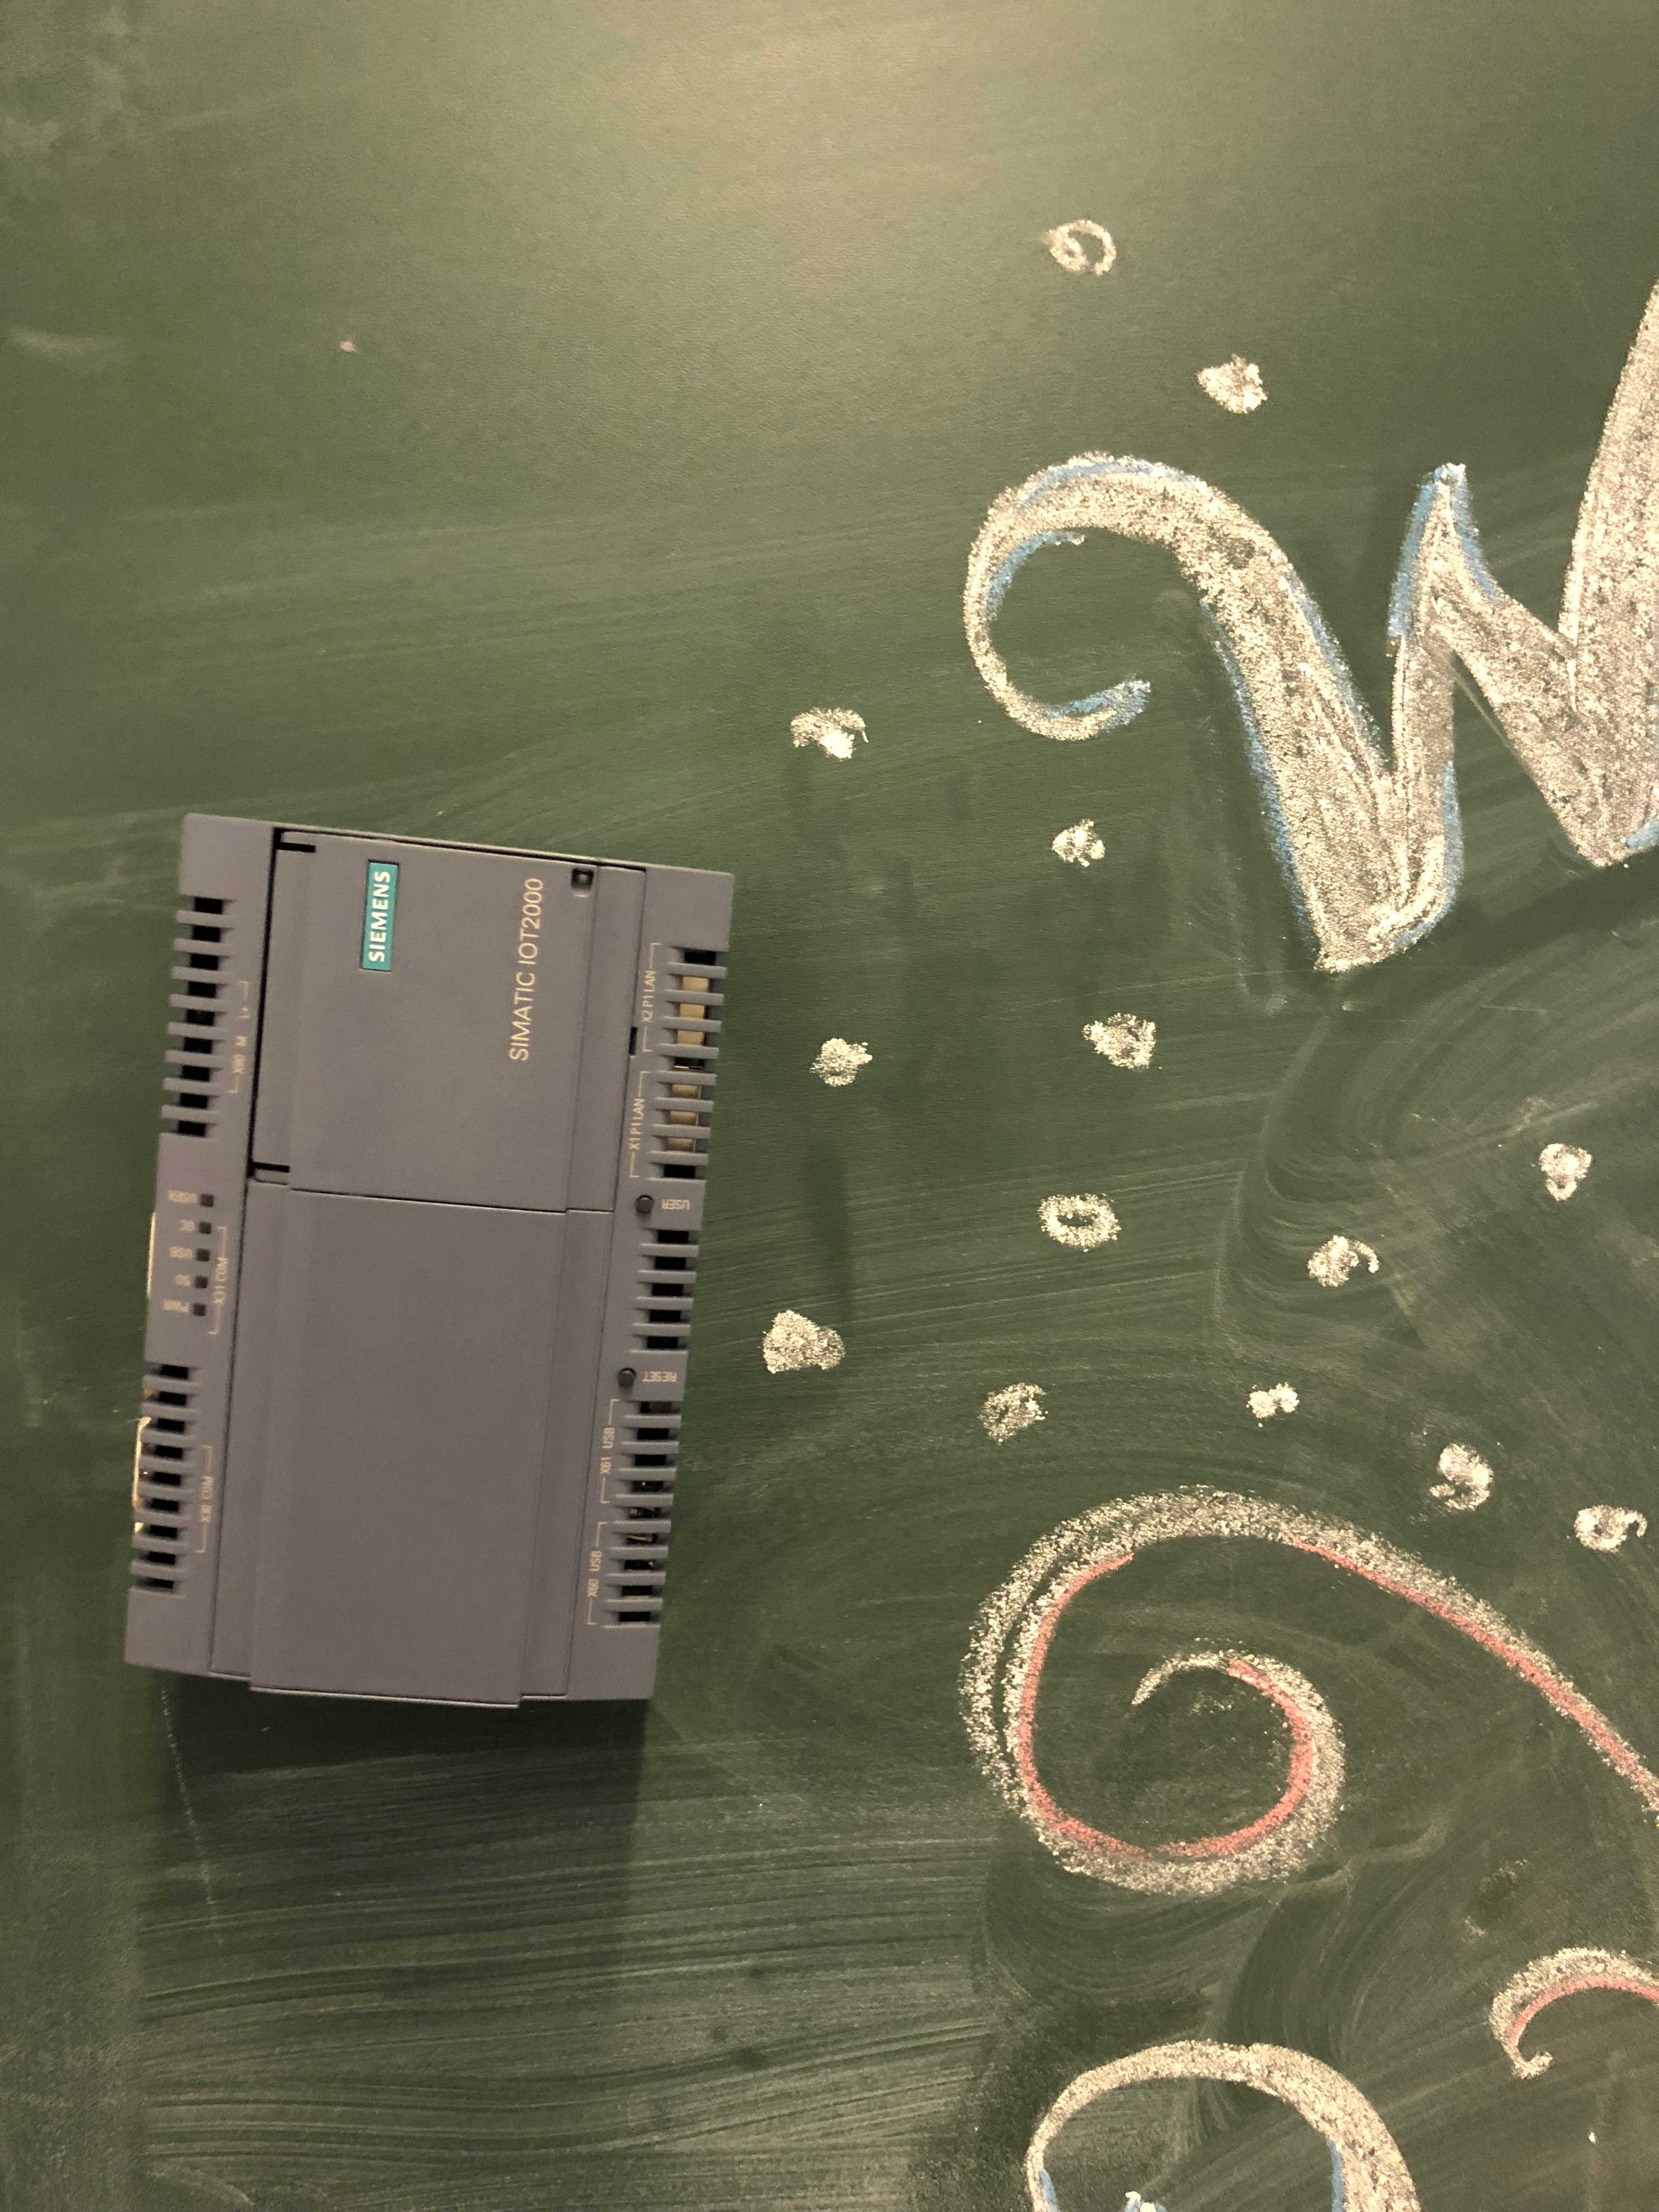device: (120, 808, 737, 1714)
